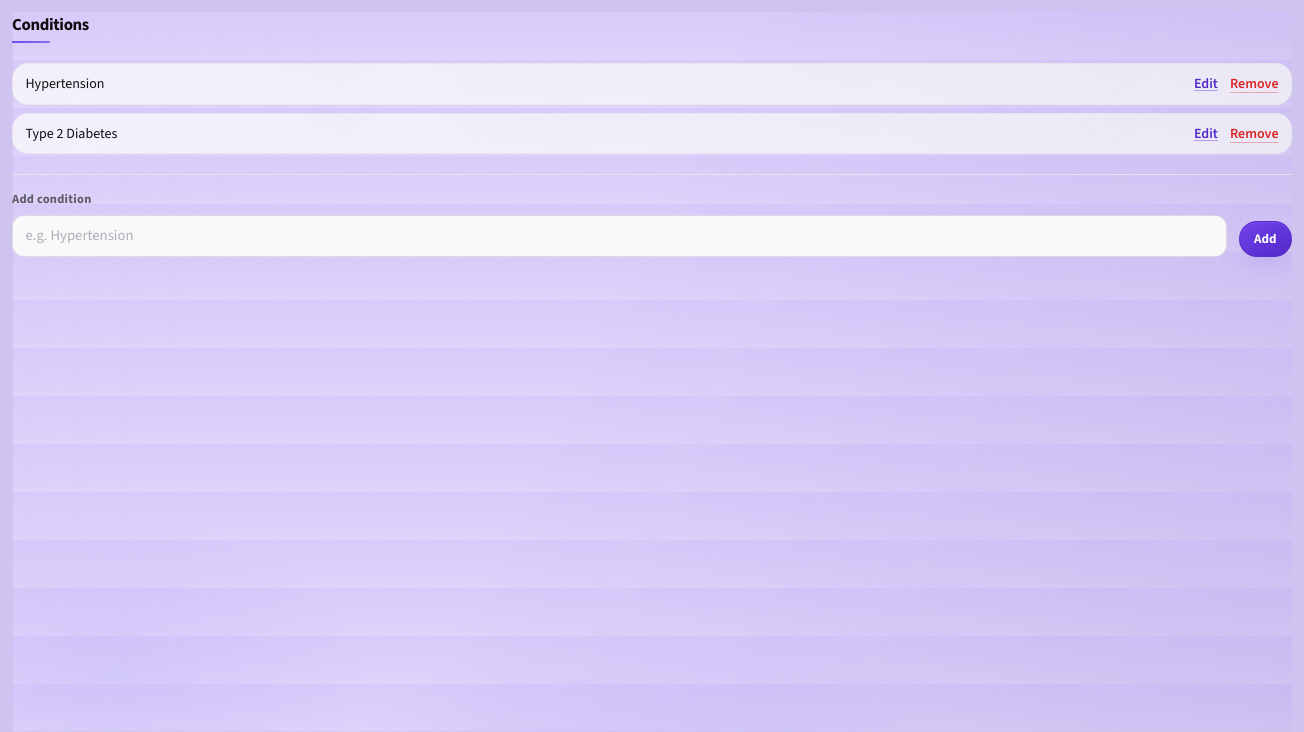
ConditionsTab › Add button POSTs to /conditions and refreshes the list
Expected: the text "Hypertension" is shown, [26,74,104,93]
Type "Asthma" into the field with placeholder "e.g. Hypertension".
click(619, 236); type("Asthma")  # box [12,215,1227,257]
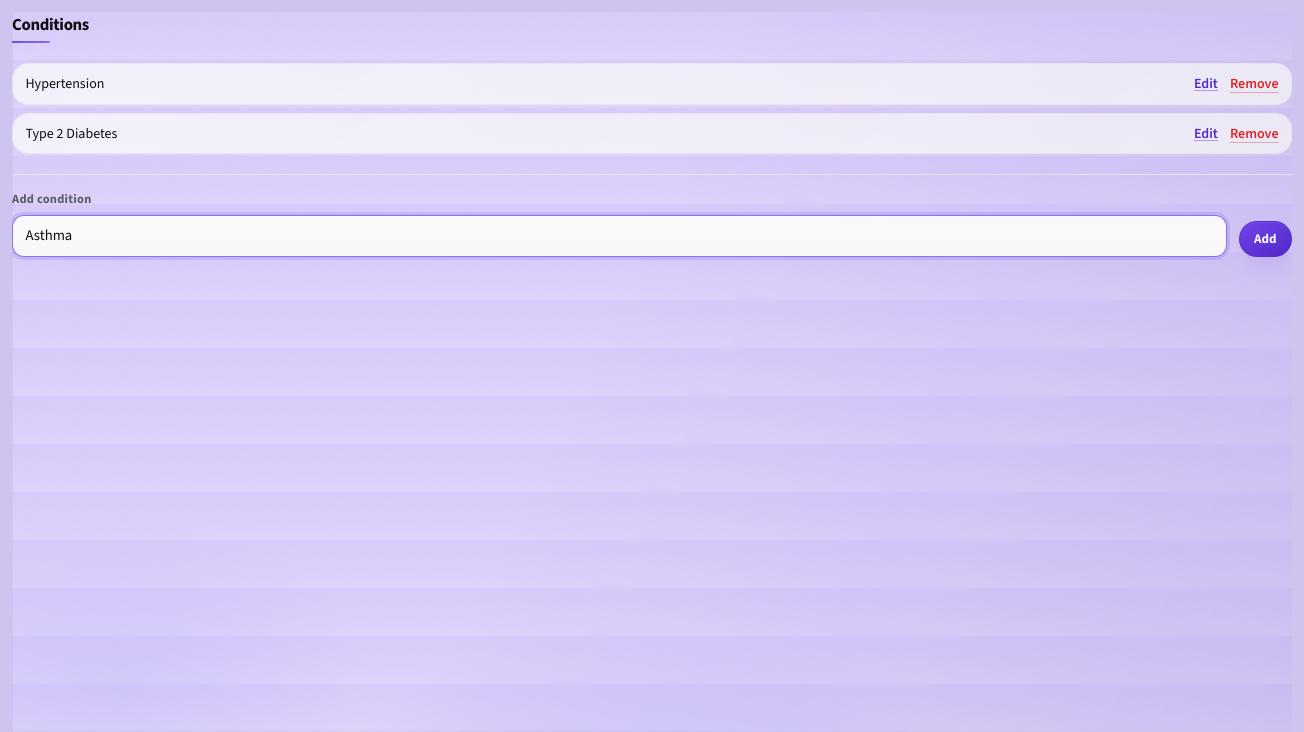
Click the button "Add".
click(1265, 239)  # box [1239,221,1292,257]
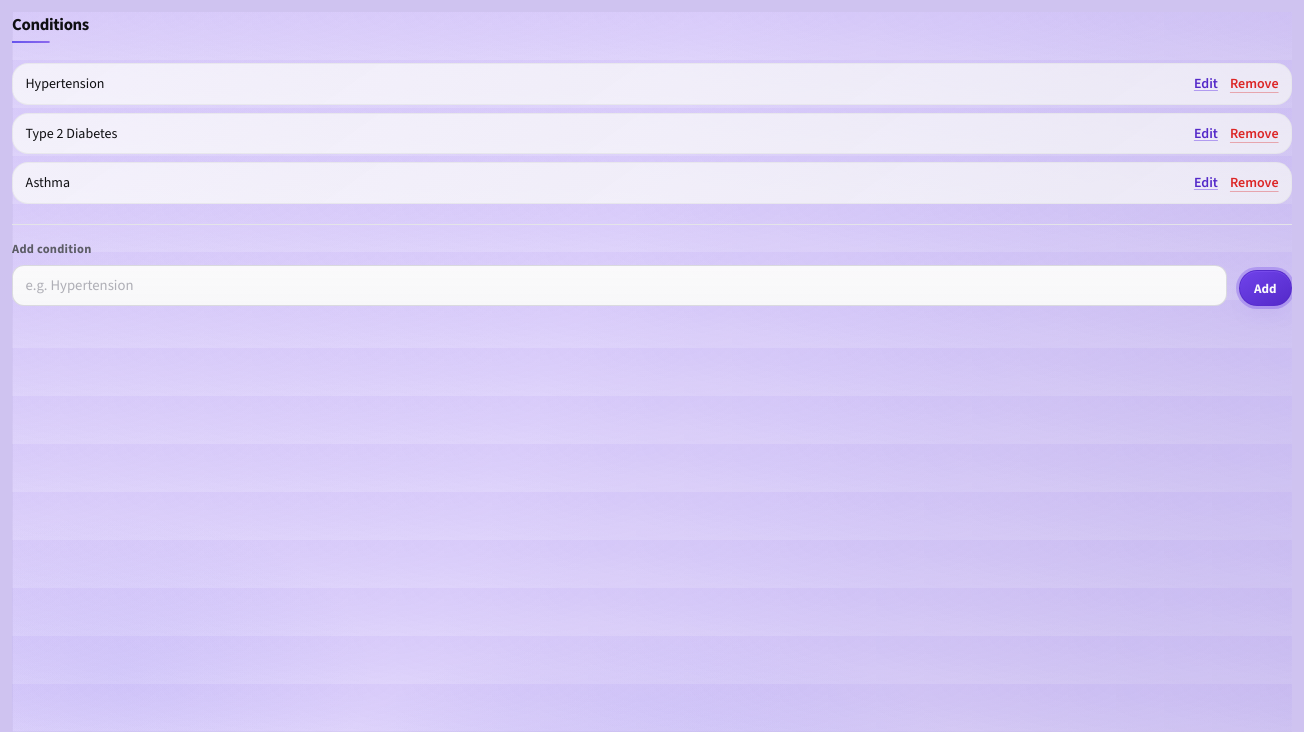
Expected: the text "Asthma" is shown, [26,173,70,192]
